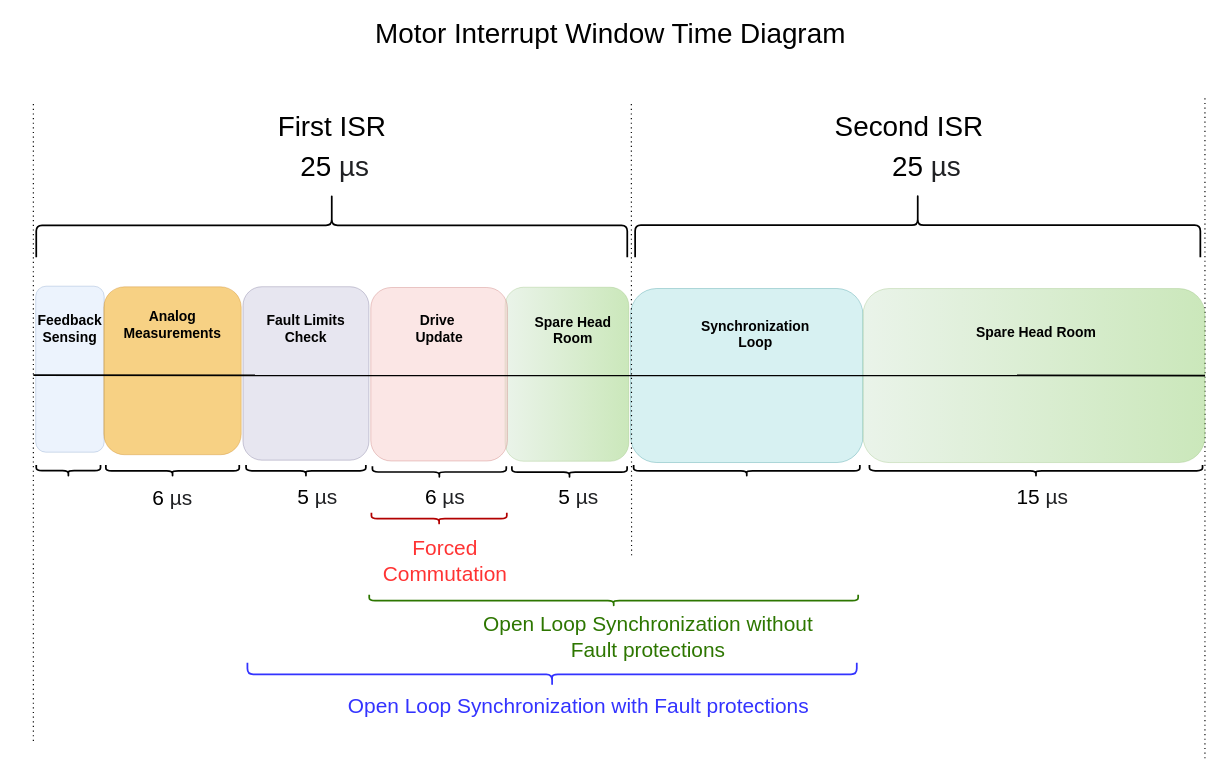
Some shapes in this 1216 by 769 pixel diagram are drawn without their labels. Here are the shapes that lost their labels. From the top down, the centre of each, then its label:
(68,470): 3 µs
(746,470): 10 µs
